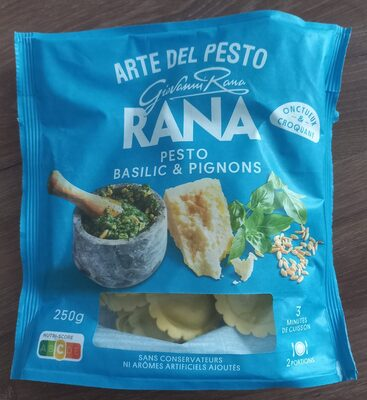Girasoli Pesto basilic et pignons: (18, 20, 349, 380)
